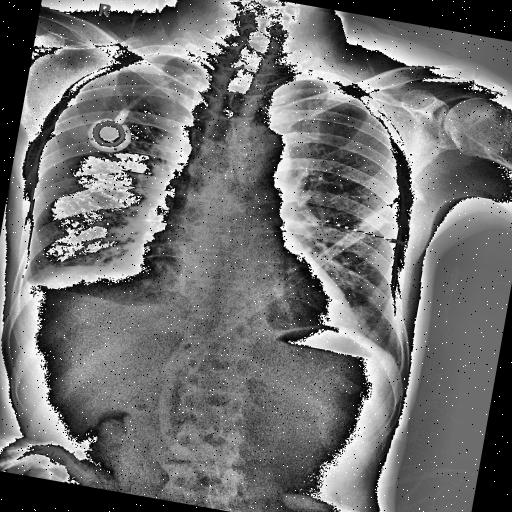0- Aortic enlargement: (236, 125, 296, 179)
10- Pleural effusion: (14, 272, 126, 320), (6, 252, 60, 316), (11, 264, 51, 300)
11- Pleural thickening: (14, 272, 126, 320), (6, 252, 60, 316), (11, 264, 51, 300)
3- Cardiomegaly: (125, 222, 368, 339), (127, 228, 365, 332)
